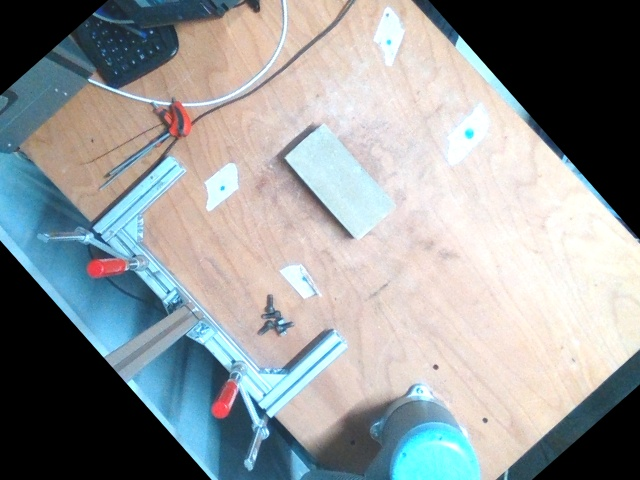brick: (285, 124, 395, 239)
